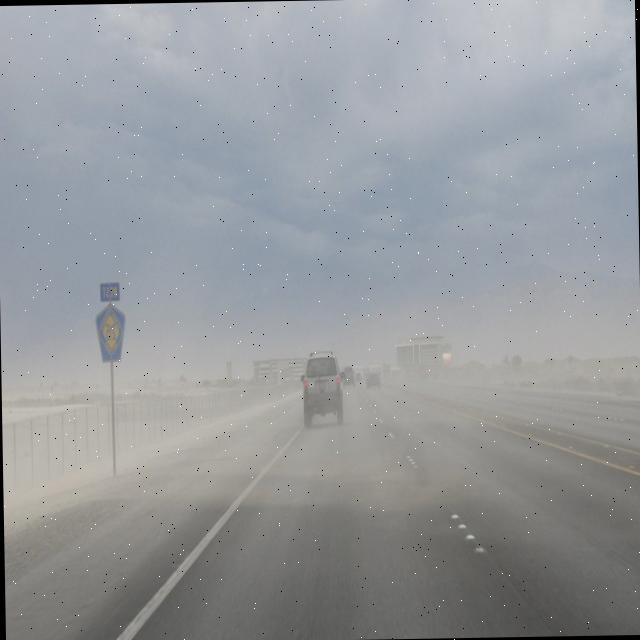car: (300, 348, 344, 429), (366, 368, 380, 388), (342, 365, 354, 387)
